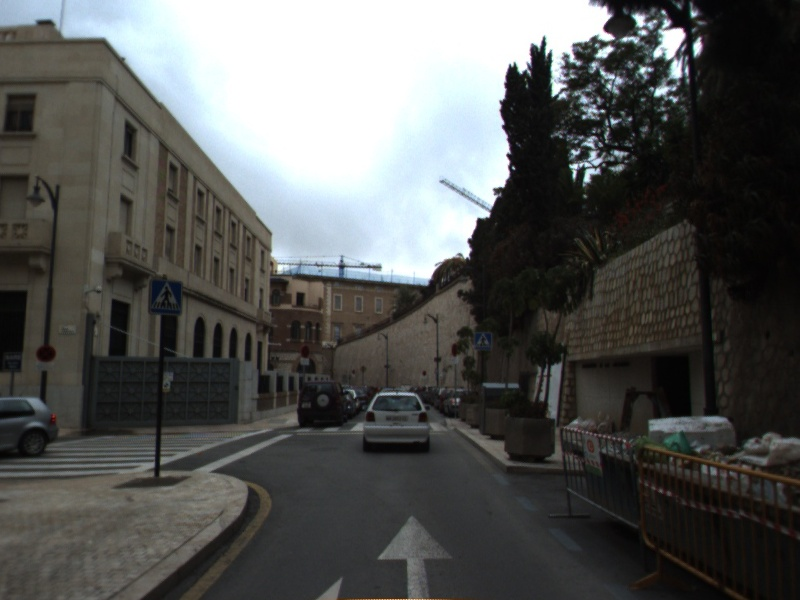STRAIGHT: (375, 513, 455, 600)
